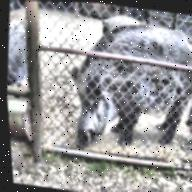boar: (49, 1, 192, 159)
